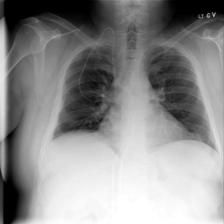normal: (47, 37, 222, 159)
